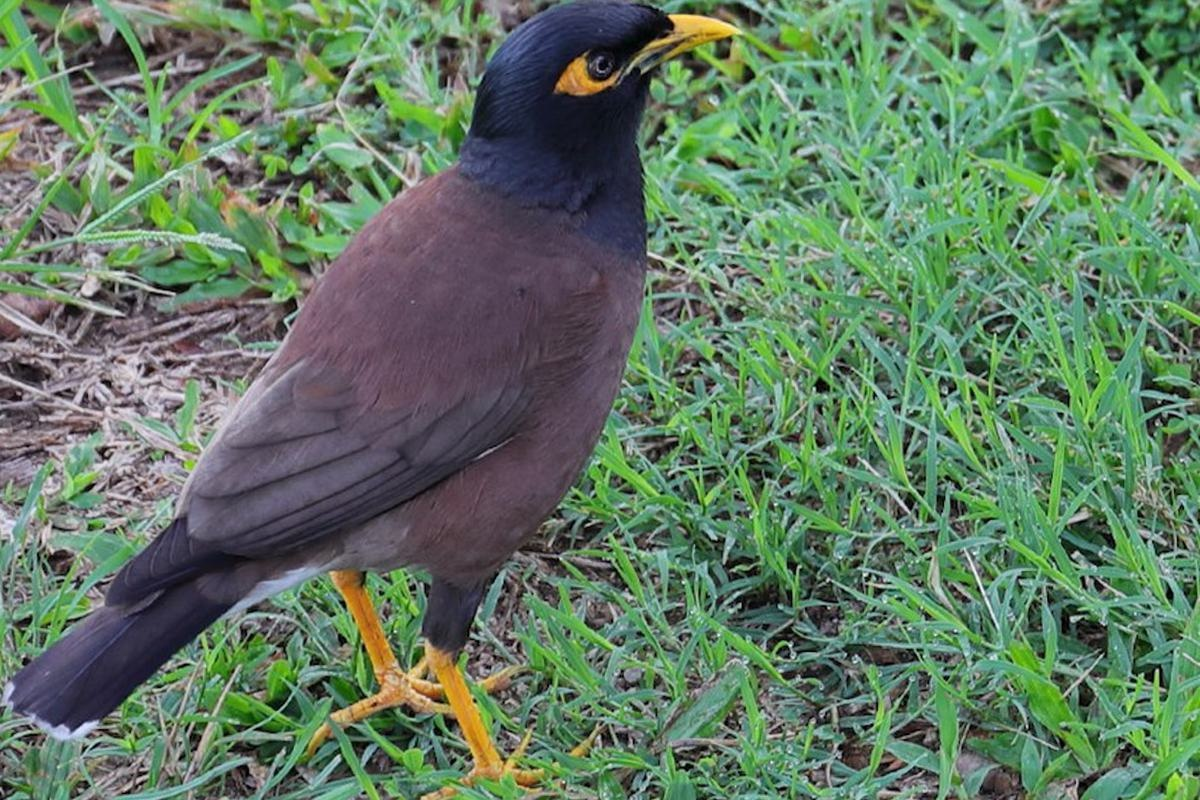myna: (151, 7, 764, 786)
